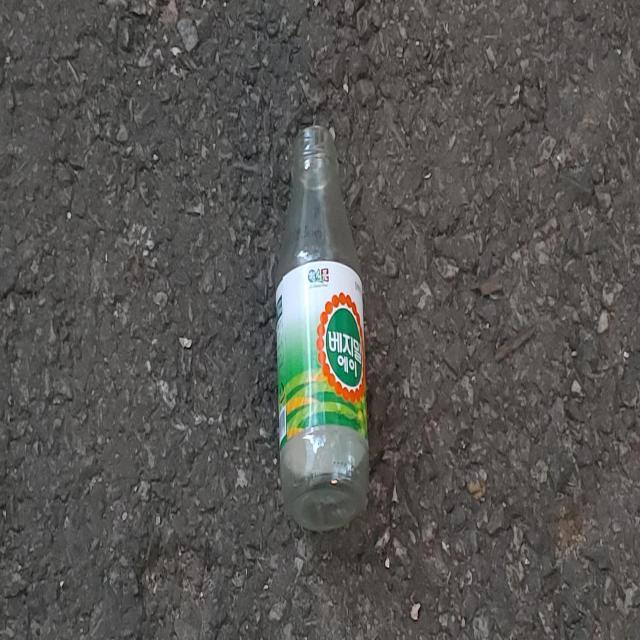glass: (276, 124, 369, 532)
